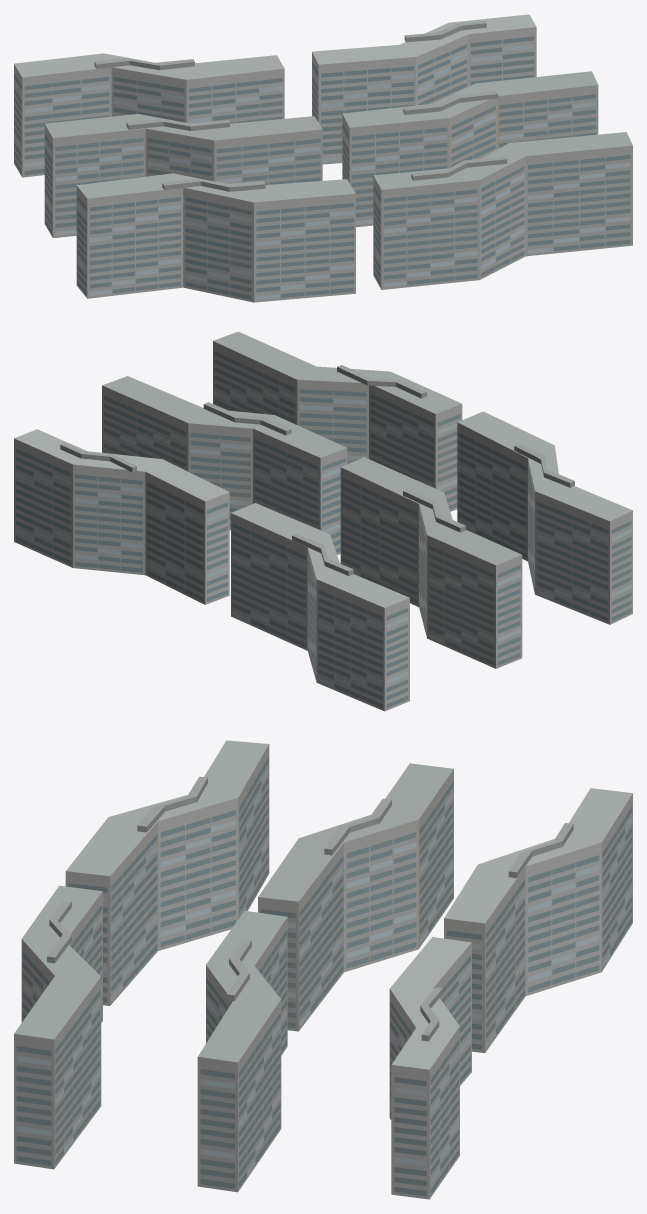
Rendered from apt-a15785613.glb.
The picture shows the model from 3 angles, top to bottom: view 1: azimuth 30°, elevation 25°; view 2: azimuth 150°, elevation 25°; view 3: azimuth 270°, elevation 25°; orthographic projection. The views are drawn at different scales.
Visible parts, largest first — view 1: apt-a15785613; view 2: apt-a15785613; view 3: apt-a15785613.
Boxes of the visible parts, x1,y1,x2,y2 form: apt-a15785613: (14,14,632,302); apt-a15785613: (14,331,632,711); apt-a15785613: (14,740,632,1199).
Size of the model in its own units: 216 by 41.43 by 171.
